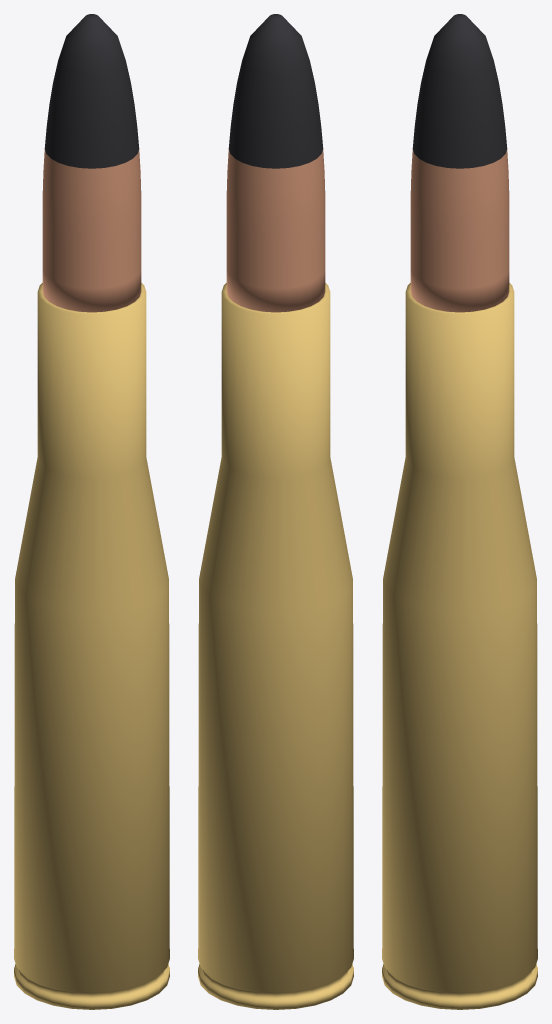
Rendered from 50bmg_ap.glb.
3 renders of one model, left to right at view 1: azimuth 30°, elevation 25°; view 2: azimuth 150°, elevation 25°; view 3: azimuth 270°, elevation 25°, orthographic.
Visible parts, largest first — view 1: vaina, bala_cuerpo, punta; view 2: vaina, bala_cuerpo, punta; view 3: vaina, bala_cuerpo, punta.
Boxes of the visible parts, box(x1,y1,x2,y2) form: vaina: box(14, 283, 169, 1009); bala_cuerpo: box(42, 149, 141, 312); punta: box(44, 14, 139, 168); vaina: box(198, 283, 353, 1009); bala_cuerpo: box(226, 149, 325, 312); punta: box(228, 14, 323, 168); vaina: box(382, 283, 537, 1009); bala_cuerpo: box(410, 149, 509, 312); punta: box(412, 14, 507, 168).
Size of the model in its own units: 0.0204 by 0.1388 by 0.0204.
